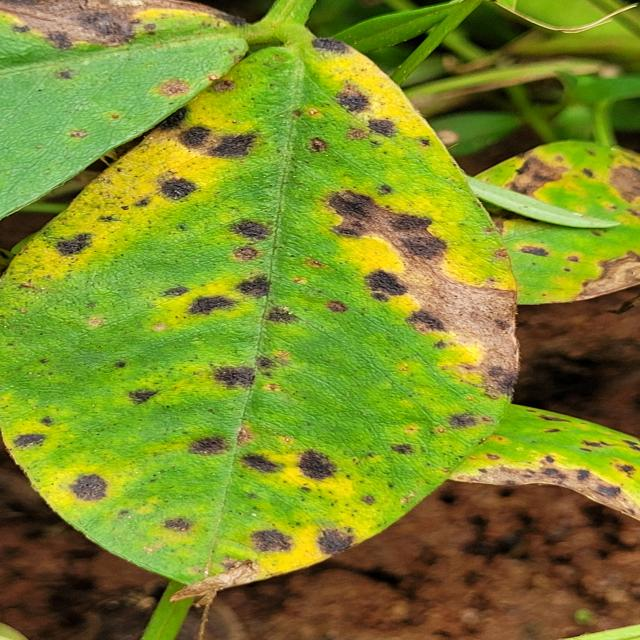Ground nut_tikka leaf spot: (1, 34, 520, 588)
